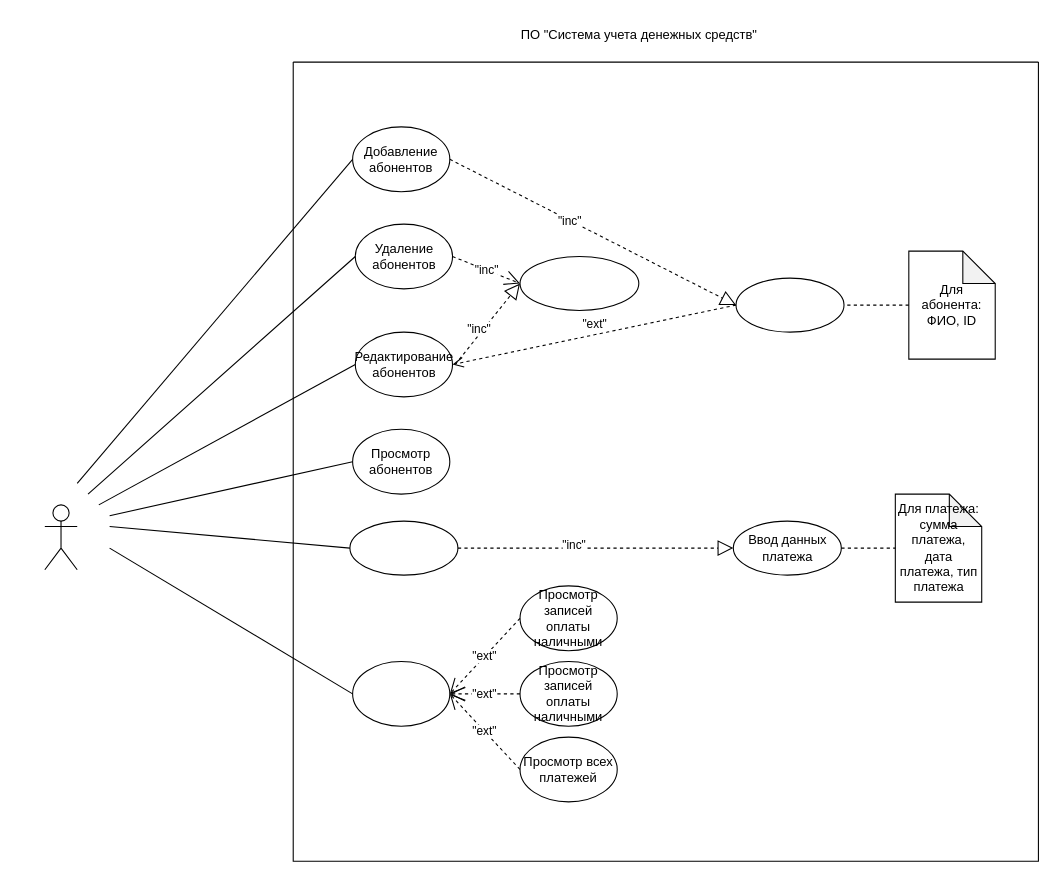
This 1057x880 diagram has some shape labels left out. The shapes that lost their labels are listed below. From the top down, each one's box as (x1, y1, x2, y2) in pixels, then its label:
(519, 255, 639, 310): Поиск по ID
(735, 277, 844, 332): Ввод данных абонента
(44, 504, 77, 570): Пользователь
(349, 520, 458, 575): Добавление записи оплаты
(352, 660, 450, 726): Просмотр записей оплаты
